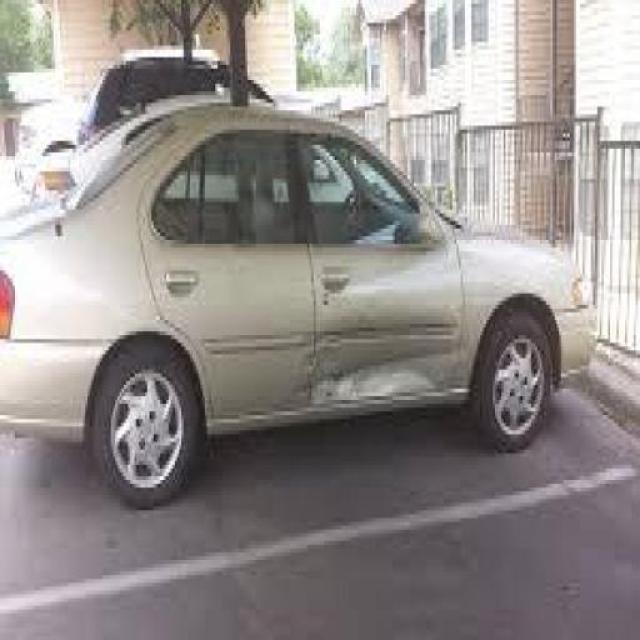dent: (293, 318, 470, 412)
